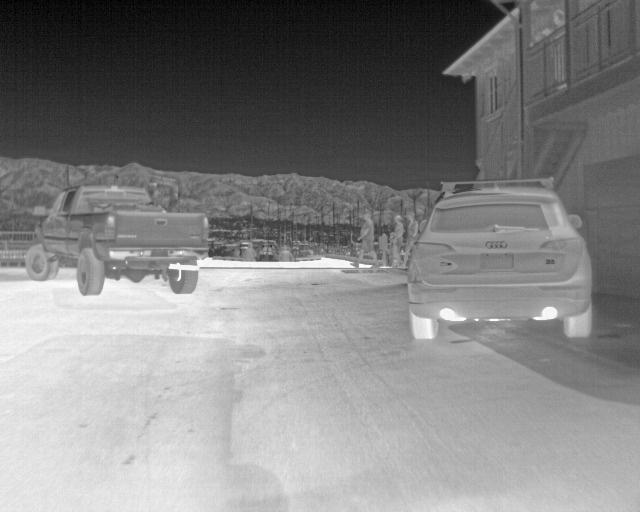bicycle: (405, 179, 594, 344), (25, 180, 213, 296)
empty: (349, 213, 384, 272), (388, 212, 407, 264)
